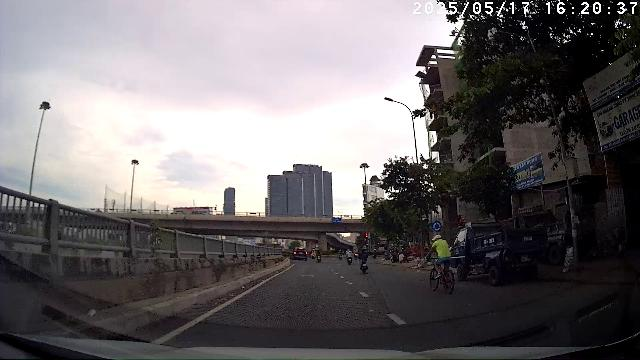303-noi-giao-nhau-chay-theo-vong-xuyen: (432, 221, 442, 232)
